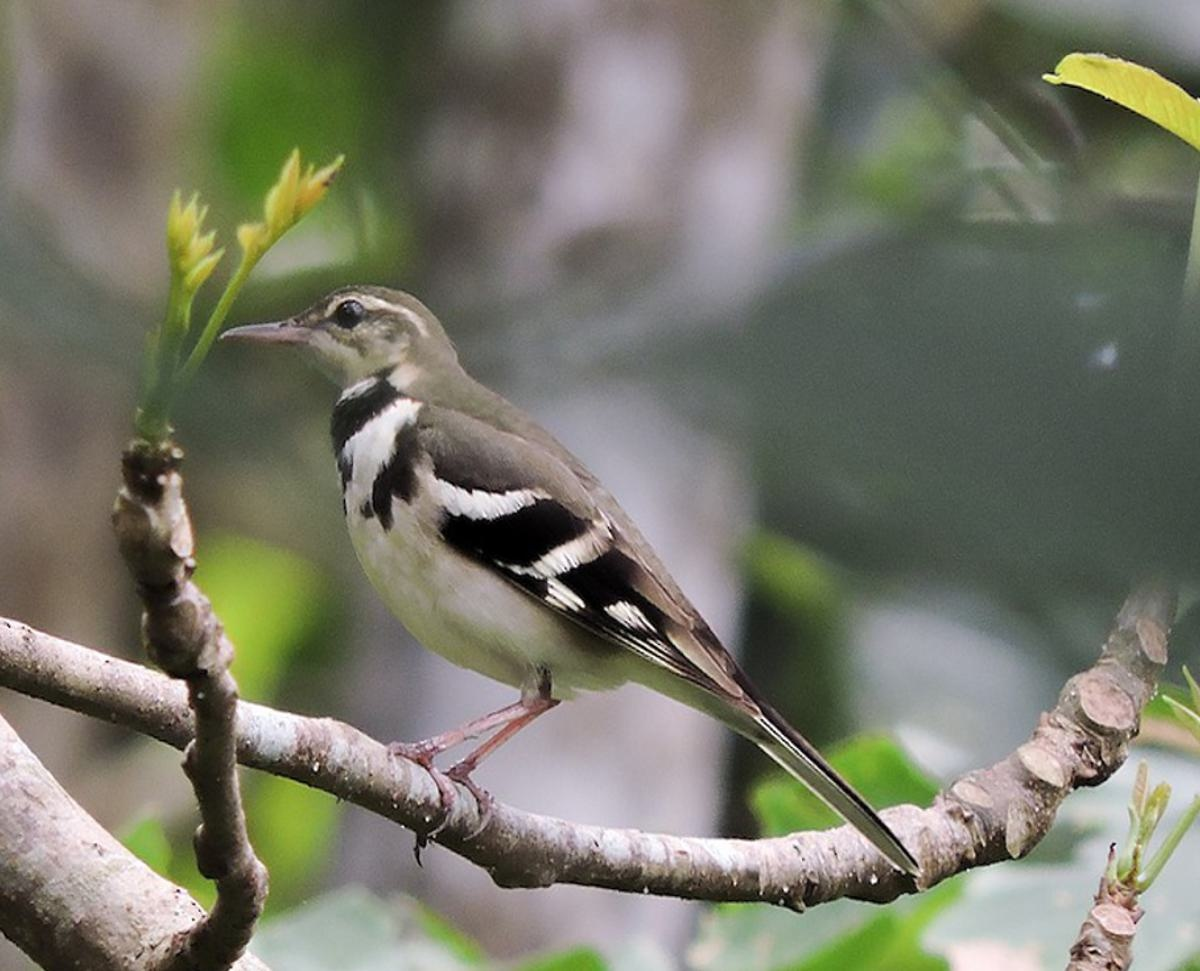wagtail: (276, 263, 860, 861)
